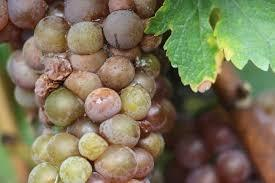Grape Rotten: (1, 1, 176, 182)
